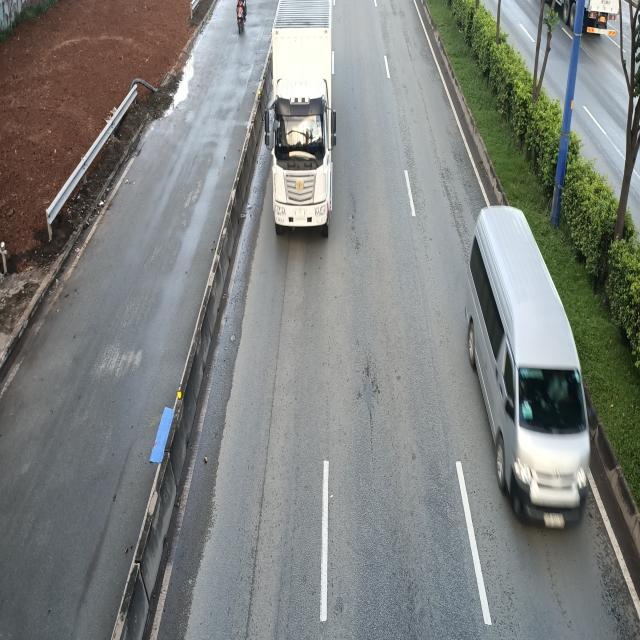container: (261, 0, 338, 232)
van: (468, 210, 596, 537)
